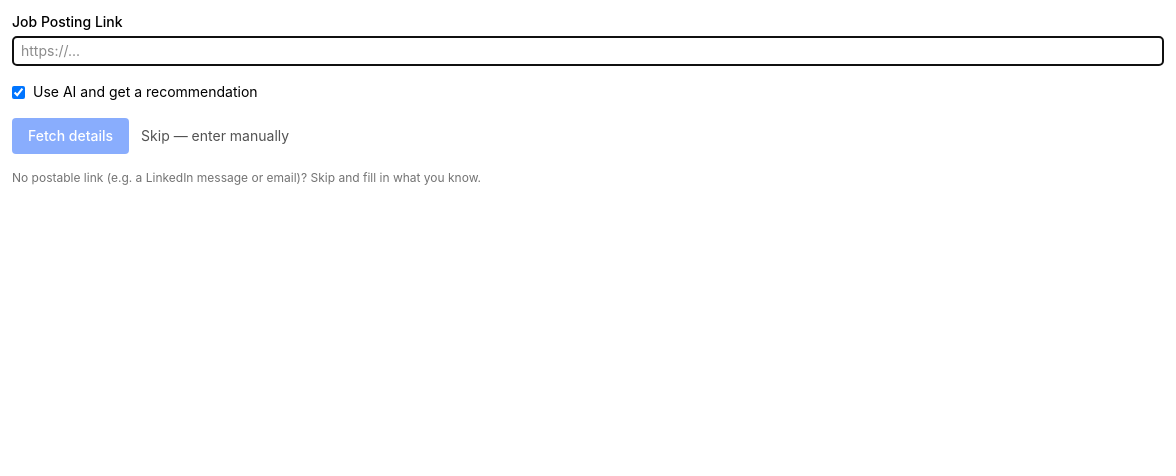
Test: AddJobForm › AI recommendation › shows a DO_NOT_APPLY banner but still leaves Add job clickable
Step 1. Type "https://acme.com/jobs/1" into the field labelled "Job Posting Link" → (588,51), box x1=12 y1=36 x2=1164 y2=66
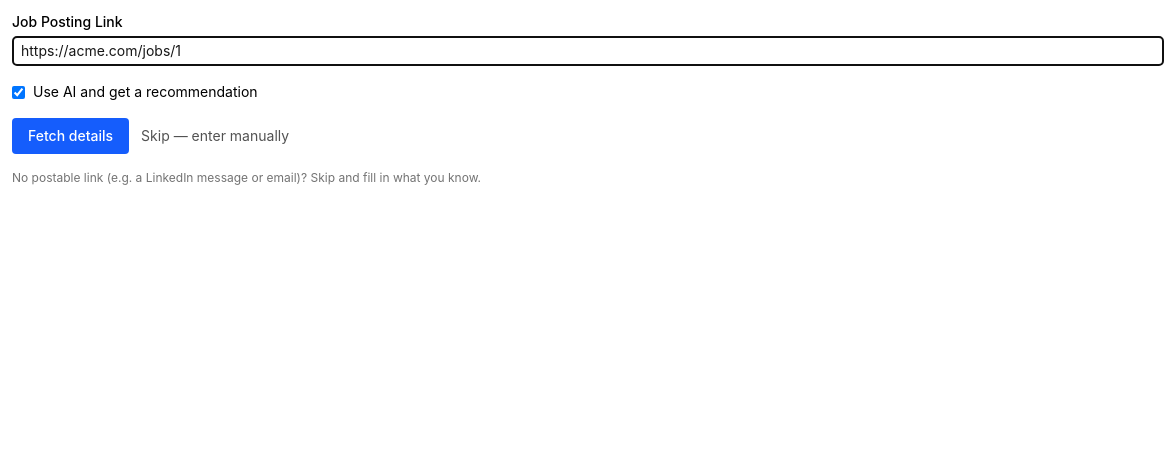
Step 2. Click the button "Fetch details" → (71,136), box x1=12 y1=118 x2=129 y2=154
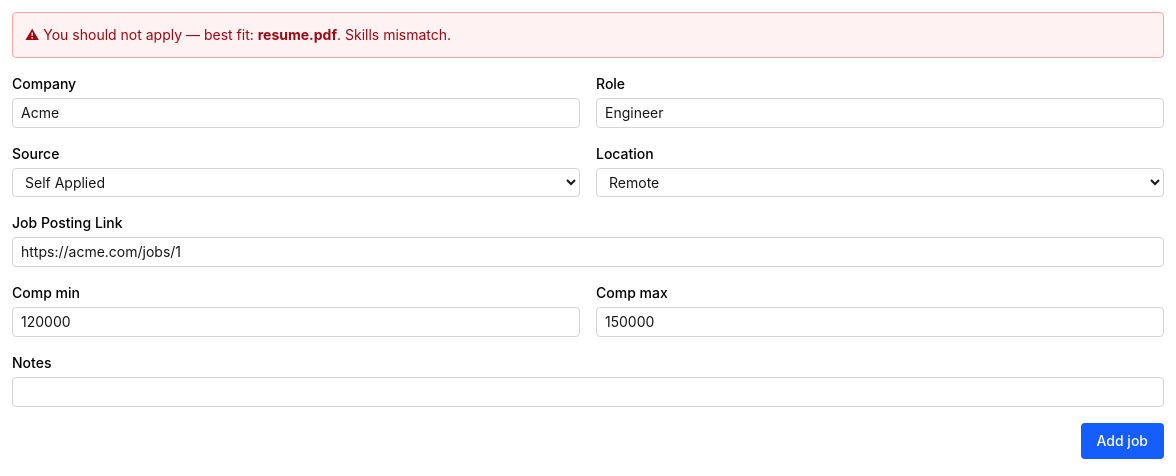
Check: the button "Add job" is enabled, box x1=1080 y1=423 x2=1164 y2=459
Check: the text "You should not apply" is shown, box x1=25 y1=26 x2=182 y2=43
